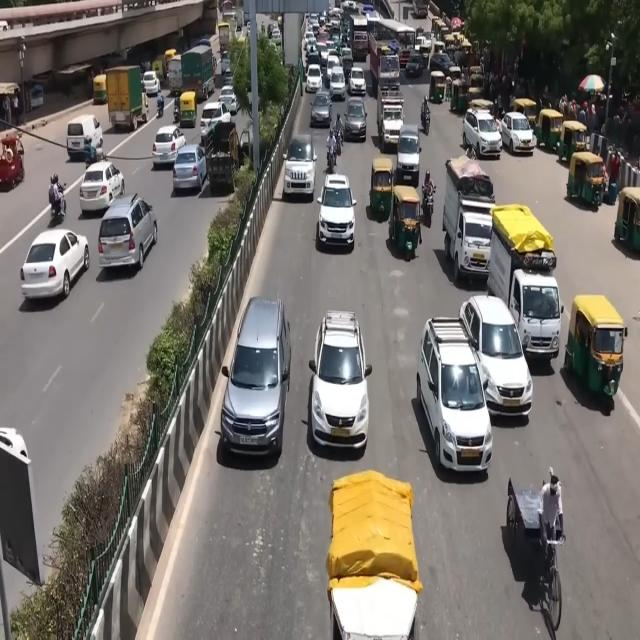auto: (563, 293, 626, 399), (387, 180, 422, 258), (565, 148, 607, 210), (614, 185, 640, 254), (369, 156, 393, 220), (558, 120, 589, 167), (535, 108, 564, 155), (512, 97, 539, 133), (467, 98, 494, 129), (450, 77, 472, 114), (179, 90, 198, 128), (428, 69, 446, 104), (92, 74, 109, 105), (467, 74, 484, 104), (431, 16, 448, 44), (448, 64, 462, 84), (444, 33, 459, 51)
bike-auto: (49, 181, 66, 220), (422, 169, 436, 212), (421, 95, 430, 124), (334, 112, 343, 141), (157, 90, 164, 116), (328, 109, 334, 134)
